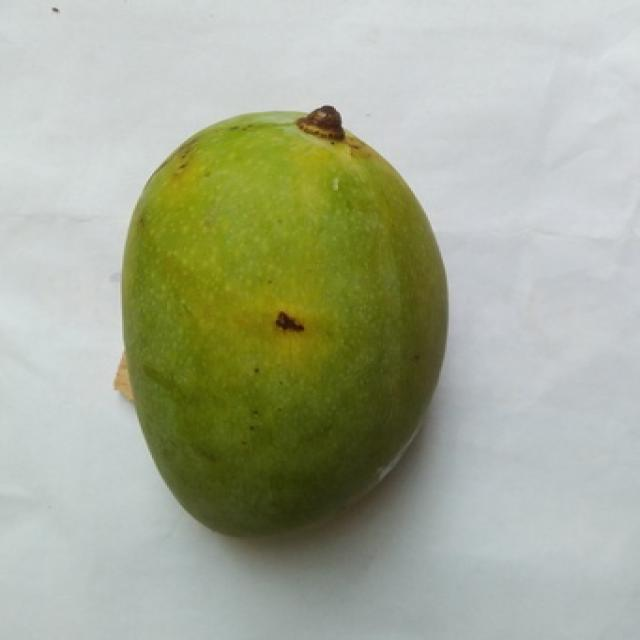Mango: (122, 108, 445, 535)
